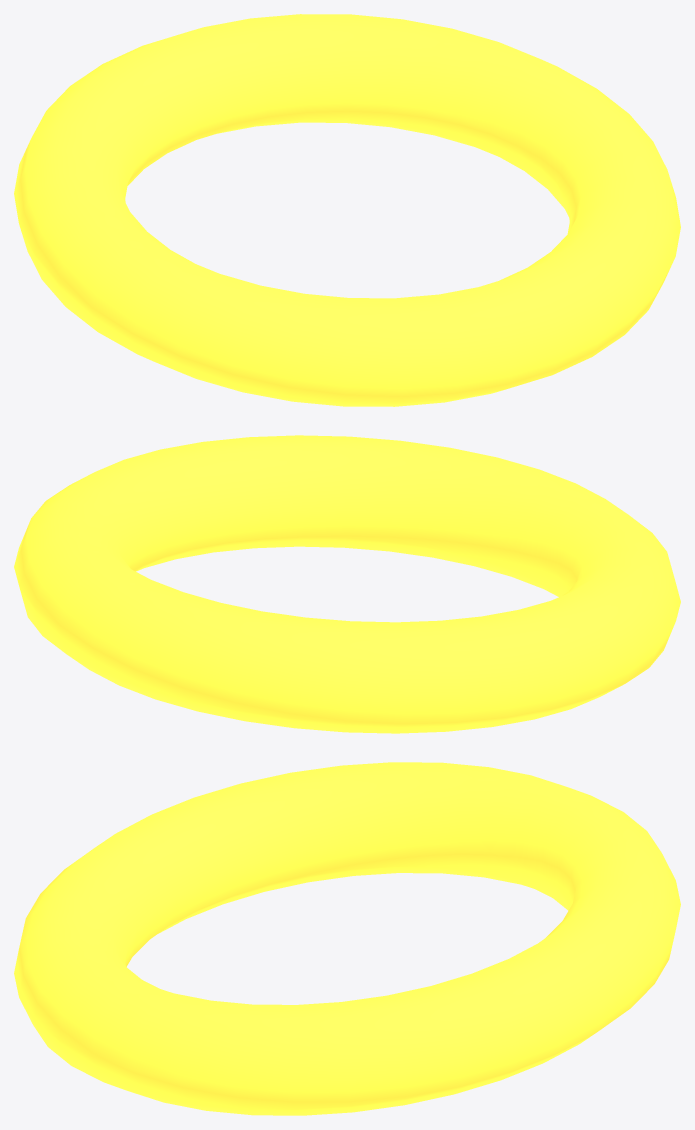
The model's file is pp_light_saucer.glb.
3 views of the same model, one above another, from view 1: azimuth 30°, elevation 25°; view 2: azimuth 150°, elevation 25°; view 3: azimuth 270°, elevation 25° (orthographic).
Parts seen in each view (by area): view 1: SaucerGlow; view 2: SaucerGlow; view 3: SaucerGlow.
Part boxes in pixels (left/top/right/bottom): SaucerGlow: left=14, top=14, right=680, bottom=406; SaucerGlow: left=14, top=435, right=680, bottom=733; SaucerGlow: left=14, top=762, right=680, bottom=1115.
Size of the model in its own units: 0.048 by 0.0124 by 0.0477.
